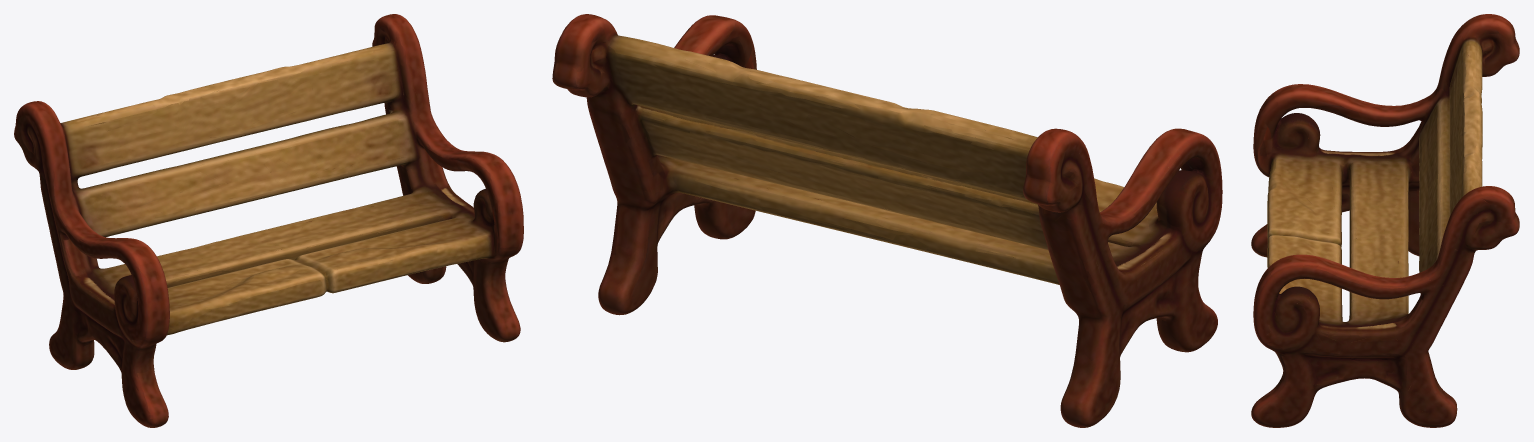
Rendered from banco.glb.
3 views of the same model, side by side, from view 1: azimuth 30°, elevation 25°; view 2: azimuth 150°, elevation 25°; view 3: azimuth 270°, elevation 25° (orthographic). The views are drawn at different scales.
Bounding box in the file's own units: 1.9 × 1.15 × 1.17.
Materials: 1 (1 with a texture image).
